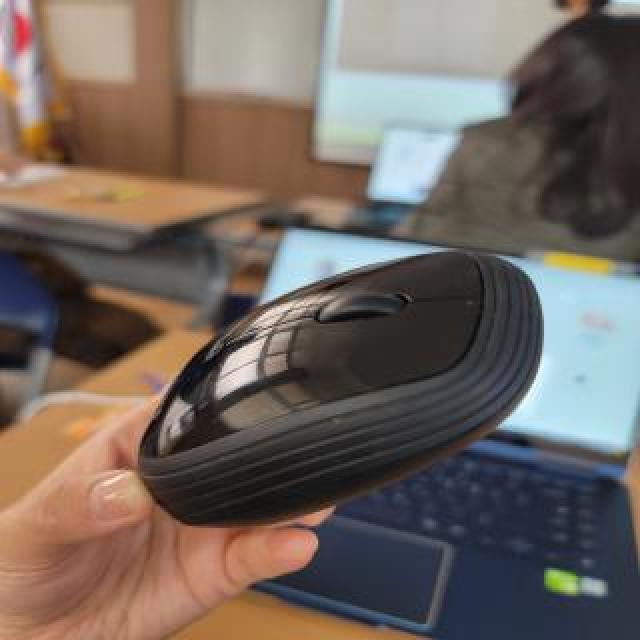mouse: (174, 268, 574, 505)
